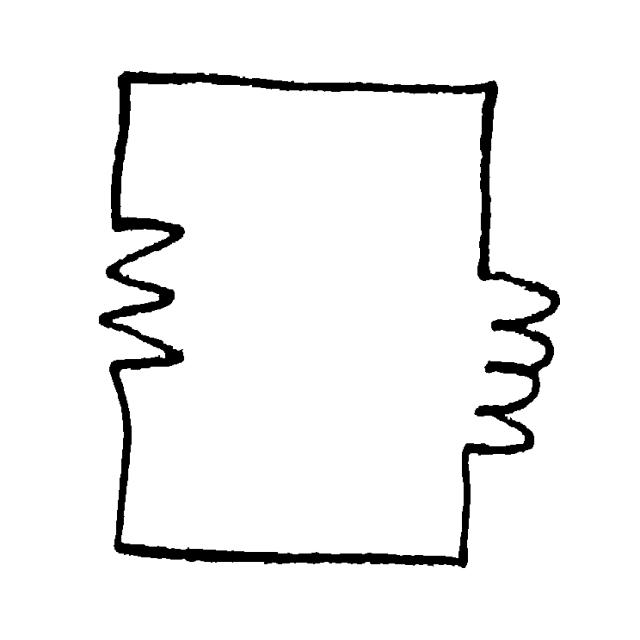inductor: (458, 254, 560, 470)
resistor: (77, 197, 208, 387)
